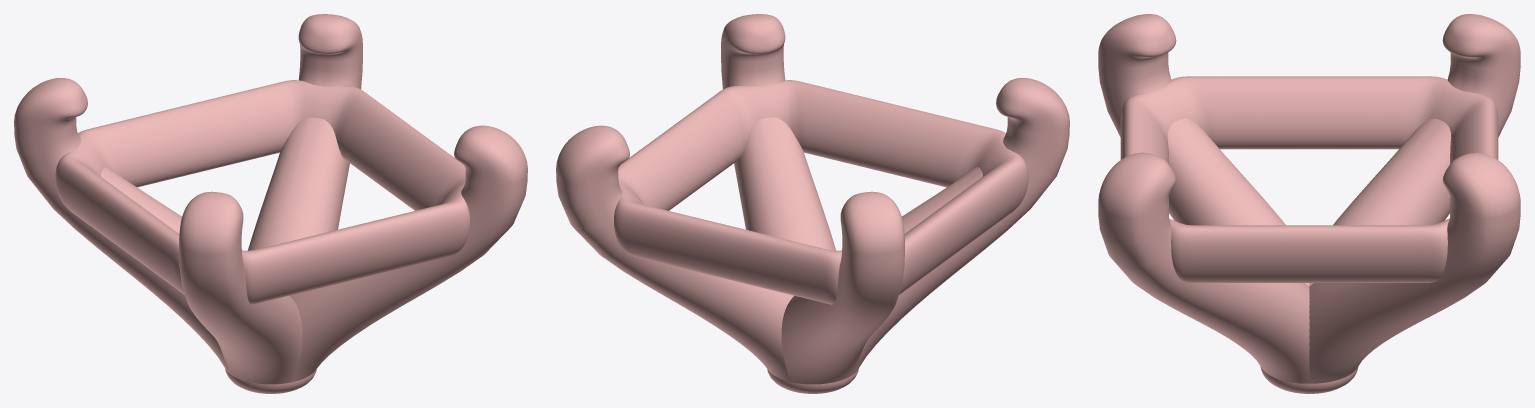
The model's file is RADIANT.glb.
3 renders of one model, left to right at view 1: azimuth 30°, elevation 25°; view 2: azimuth 150°, elevation 25°; view 3: azimuth 270°, elevation 25°, orthographic. The views are drawn at different scales.
Parts seen in each view (by area): view 1: radiant; view 2: radiant; view 3: radiant.
Boxes of the visible parts, x1,y1,x2,y2 form: radiant: (14,14,527,393); radiant: (556,14,1069,393); radiant: (1098,14,1520,393).
Bounding box in the file's own units: 5.57 × 4.3 × 5.57.
